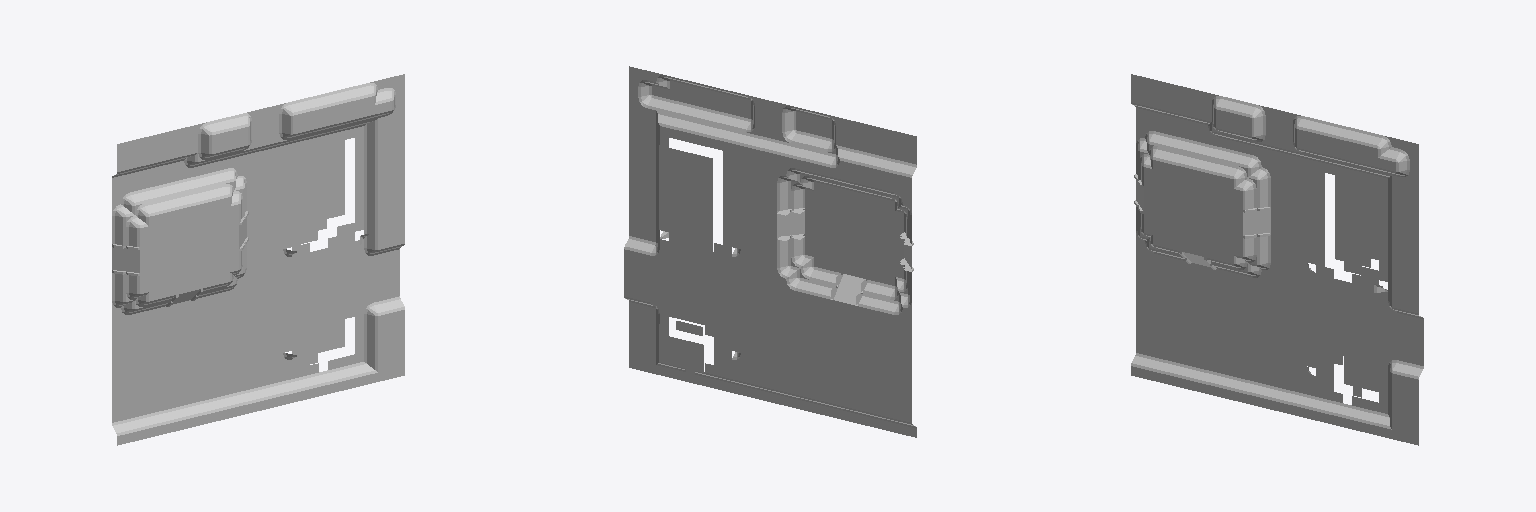
The model's file is Plat_full_09_10.obj.
3 views of the same model, side by side, from view 1: azimuth 30°, elevation 25°; view 2: azimuth 150°, elevation 25°; view 3: azimuth 330°, elevation 25° (orthographic).
Parts seen in each view (by area): view 1: map; view 2: map; view 3: map.
Boxes of the visible parts, <box> form: map: <box>112,74,404,445</box>; map: <box>624,66,916,437</box>; map: <box>1131,74,1423,445</box>.
Size of the model in its own units: 32 by 32 by 4.